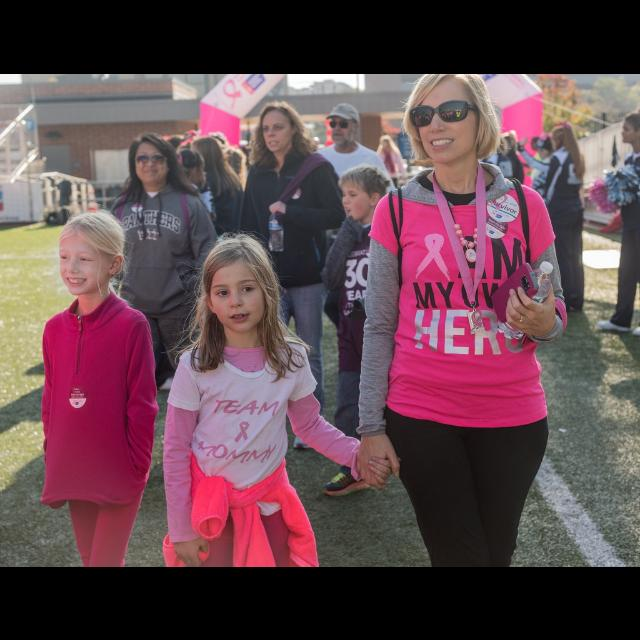head: (202, 235, 274, 333), (414, 73, 488, 165), (58, 212, 126, 296), (339, 166, 389, 224), (132, 132, 174, 184), (262, 102, 300, 152), (330, 104, 360, 146), (551, 123, 573, 151), (382, 138, 391, 150)
person: (230, 95, 348, 457), (93, 126, 225, 447), (317, 166, 433, 504), (294, 102, 404, 360), (530, 120, 590, 318), (374, 130, 406, 212)
